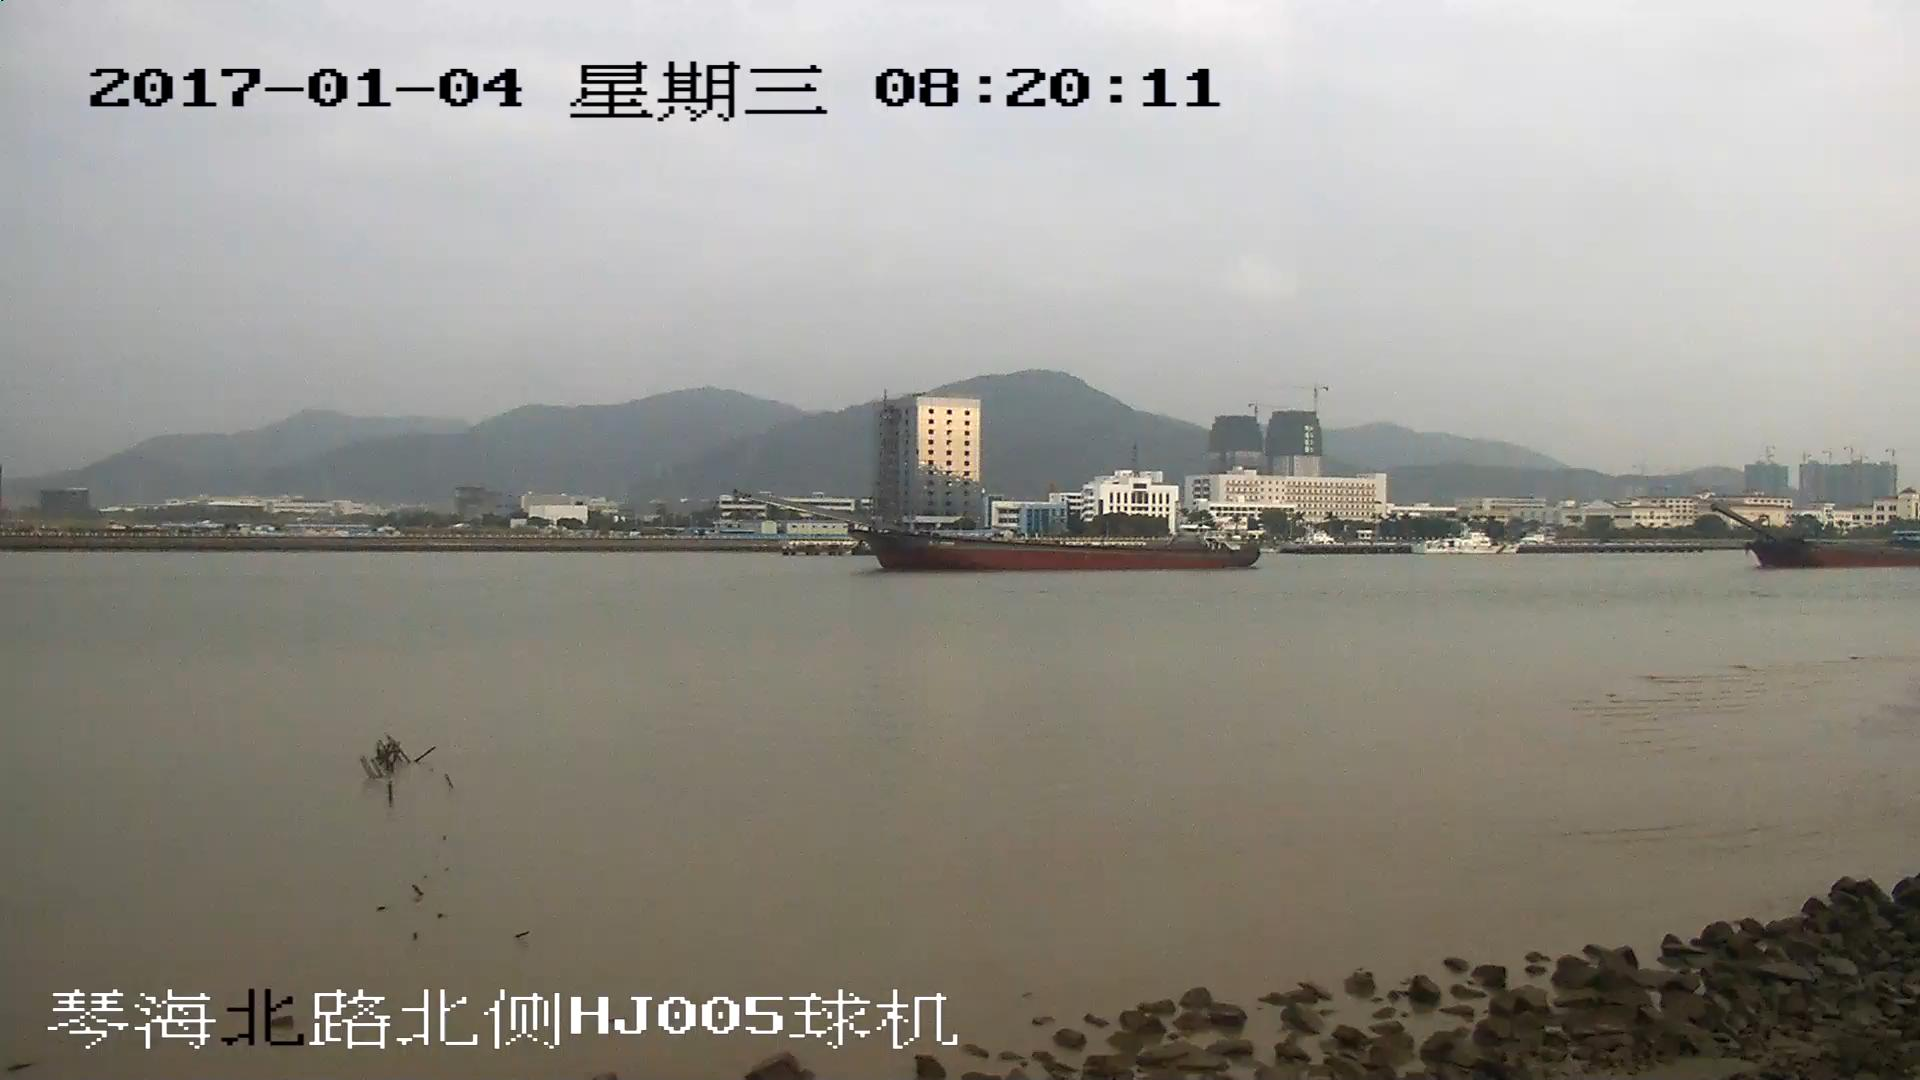bulk cargo carrier: (739, 490, 1257, 570), (1716, 505, 1920, 570)
